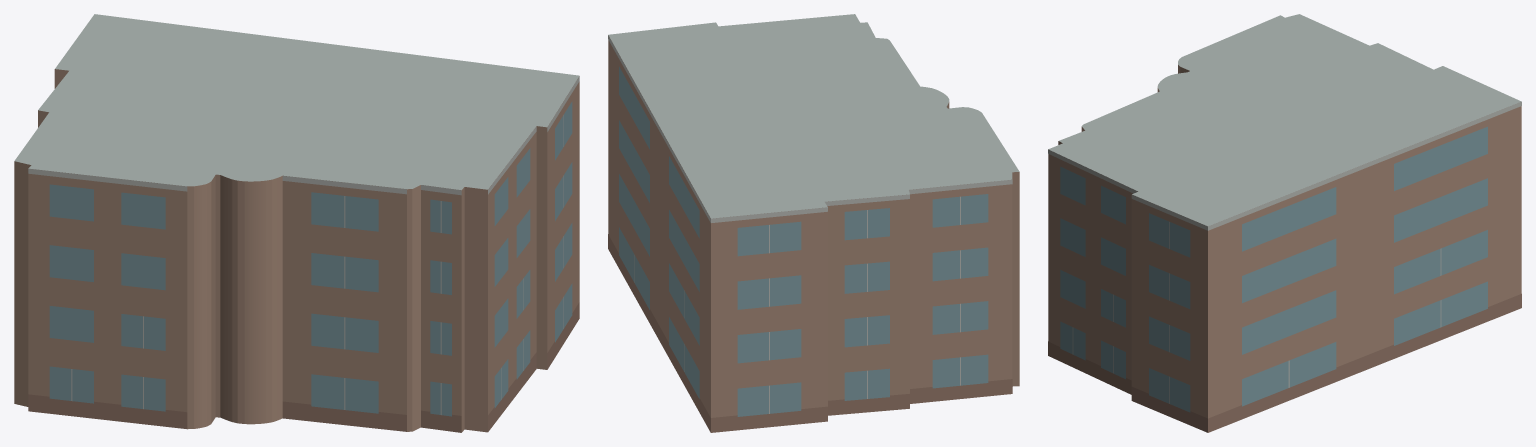
The model's file is survey-upis-32922195.glb.
3 views of the same model, side by side, from view 1: azimuth 30°, elevation 25°; view 2: azimuth 150°, elevation 25°; view 3: azimuth 270°, elevation 25° (orthographic). The views are drawn at different scales.
Visible parts, largest first — view 1: survey-upis-32922195.tmp; view 2: survey-upis-32922195.tmp; view 3: survey-upis-32922195.tmp.
Boxes of the visible parts, <box> form: survey-upis-32922195.tmp: <box>14,14,579,432</box>; survey-upis-32922195.tmp: <box>608,14,1019,432</box>; survey-upis-32922195.tmp: <box>1048,14,1521,432</box>.
Size of the model in its own units: 25.38 by 11.5 by 23.92.
